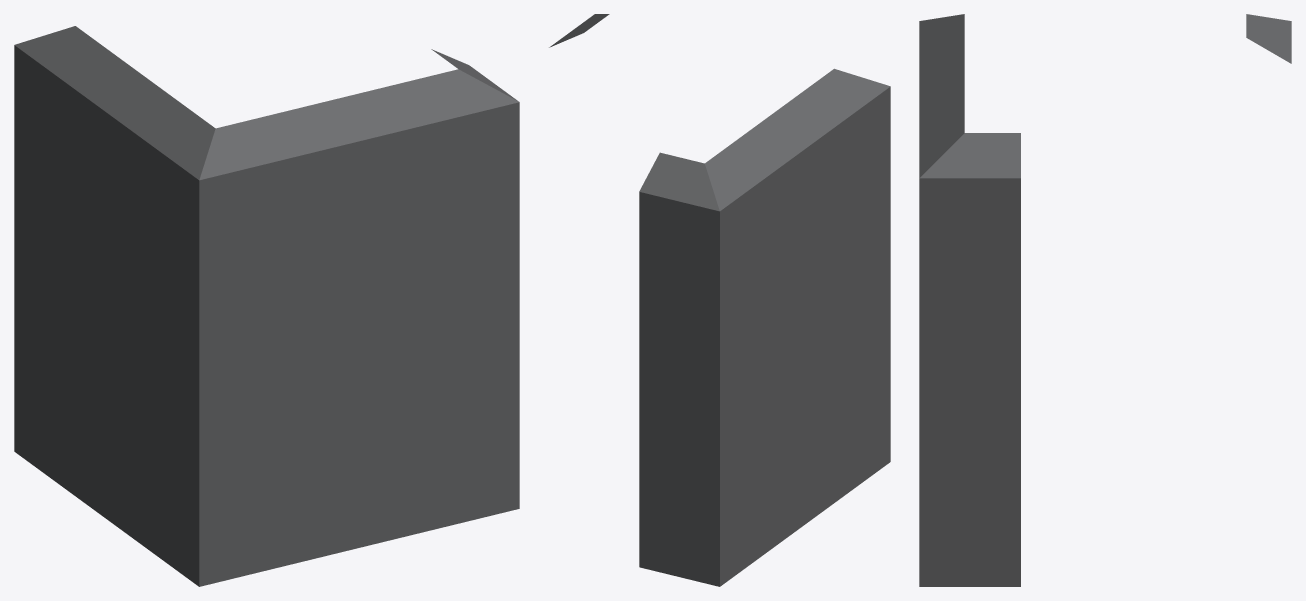
The model's file is SM_Foundation_Corner_Pillar_B.gltf.
The picture shows the model from 3 angles, left to right: view 1: azimuth 30°, elevation 25°; view 2: azimuth 150°, elevation 25°; view 3: azimuth 270°, elevation 25°; orthographic projection. The views are drawn at different scales.
Parts seen in each view (by area): view 1: SM_Foundation_Corner_Pillar_B; view 2: SM_Foundation_Corner_Pillar_B; view 3: SM_Foundation_Corner_Pillar_B.
Part boxes in pixels (bbox=[...]): SM_Foundation_Corner_Pillar_B: bbox=[14, 26, 519, 586]; SM_Foundation_Corner_Pillar_B: bbox=[549, 14, 890, 586]; SM_Foundation_Corner_Pillar_B: bbox=[919, 14, 1291, 586].
Size of the model in its own units: 0.33 by 0.4256 by 0.33.
Materials: 1 (1 with a texture image).
